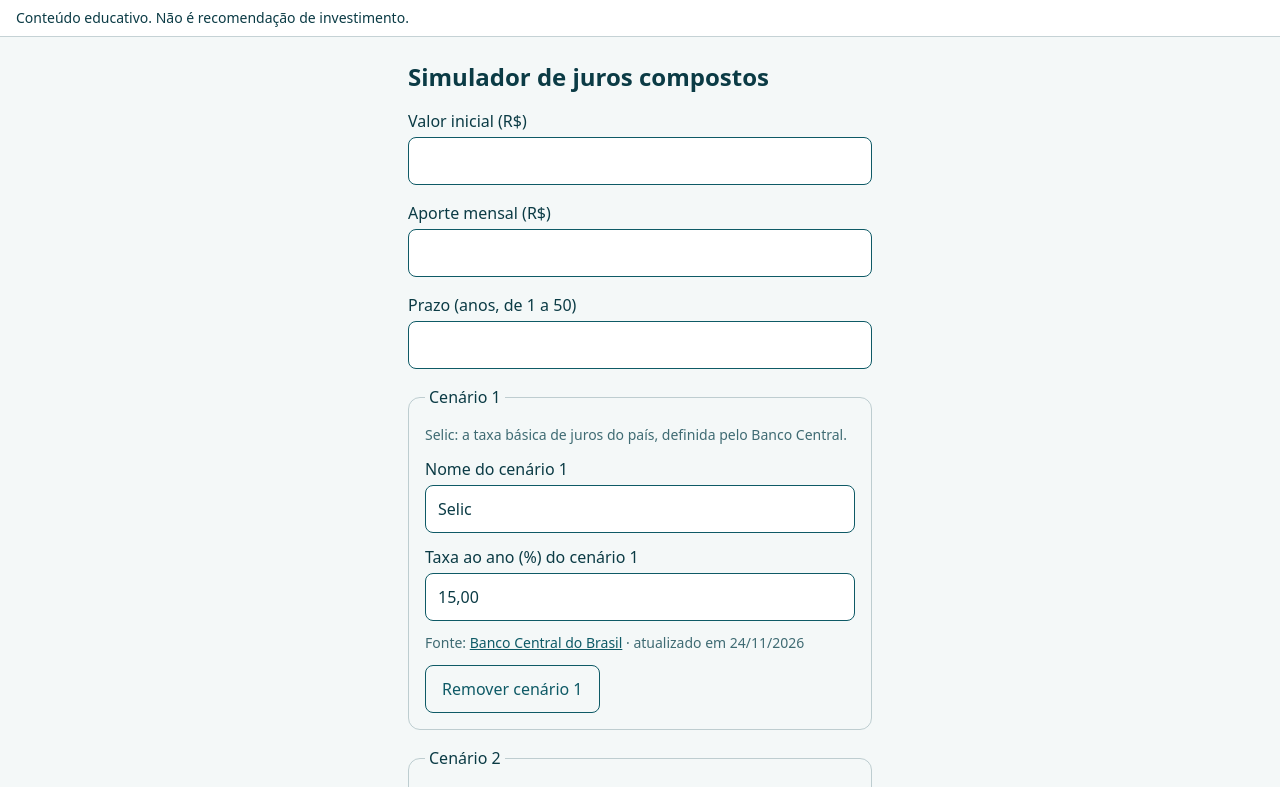
it: InvestmentSimulatorPage › formatsMillions
Expected: the field showing "15,00" is shown, [425,573,855,621]
Type "5.000" into the field labelled "Valor inicial (R$)".
click(640, 161); type("5.000")  # box [408,137,872,185]
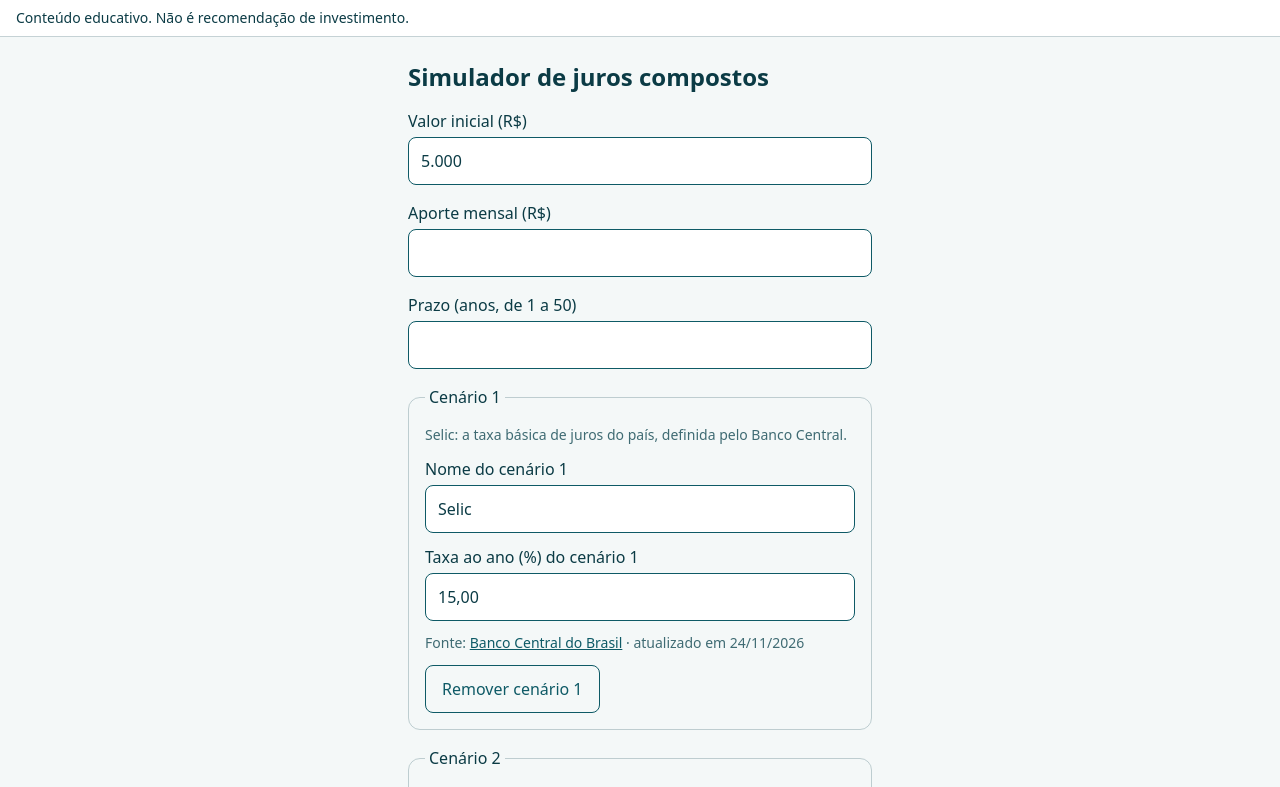
Type "200" into the field labelled "Aporte mensal (R$)".
click(640, 253); type("200")  # box [408,229,872,277]
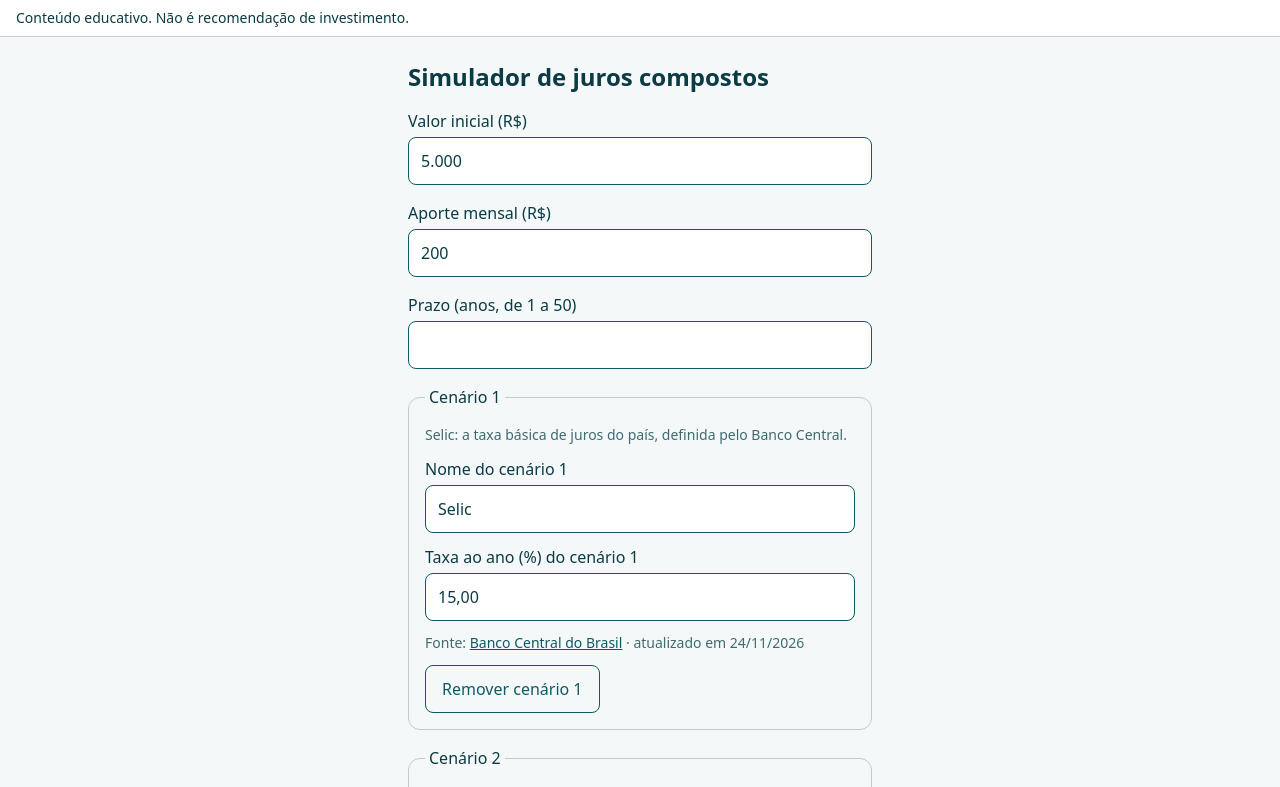
Type "10" into the field labelled "Prazo (anos, de 1 a 50)".
click(640, 345); type("10")  # box [408,321,872,369]
(page scrolled)
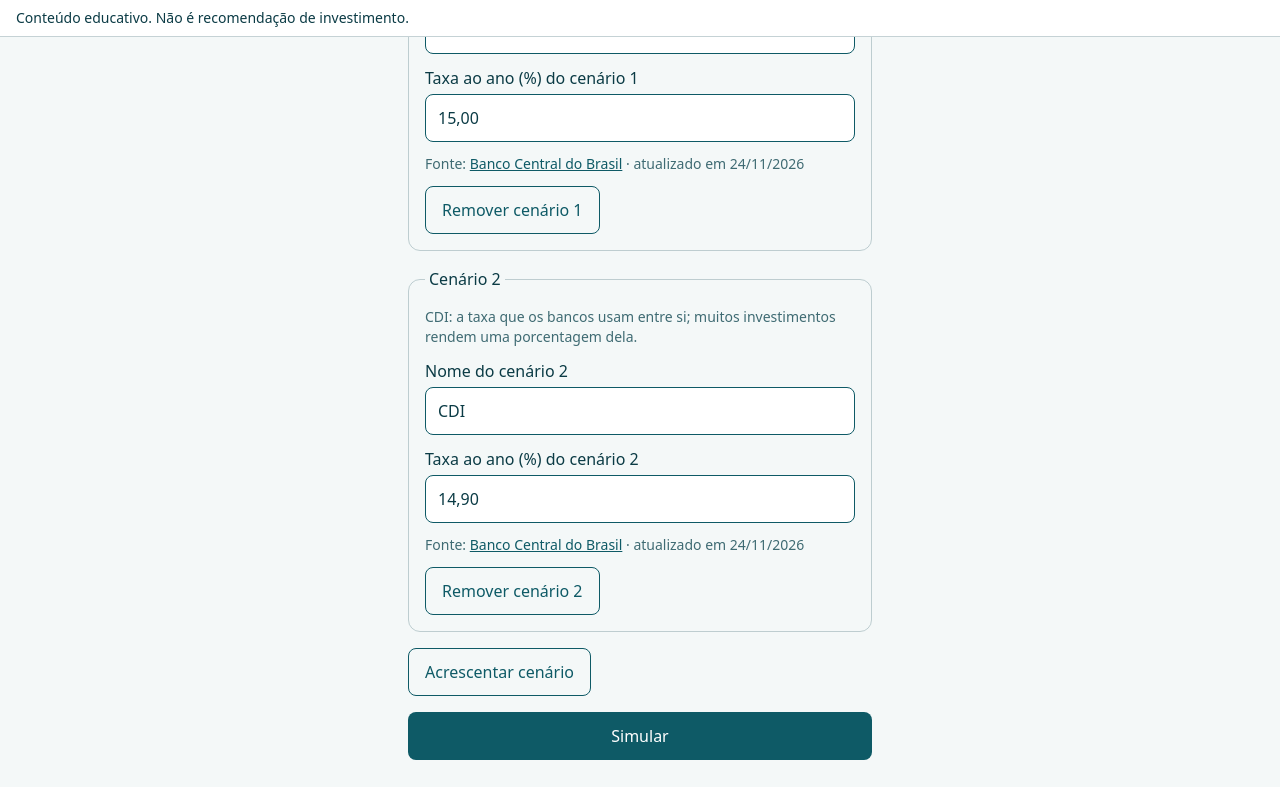
Click the button "Simular".
click(640, 736)  # box [408,712,872,760]
(page scrolled)
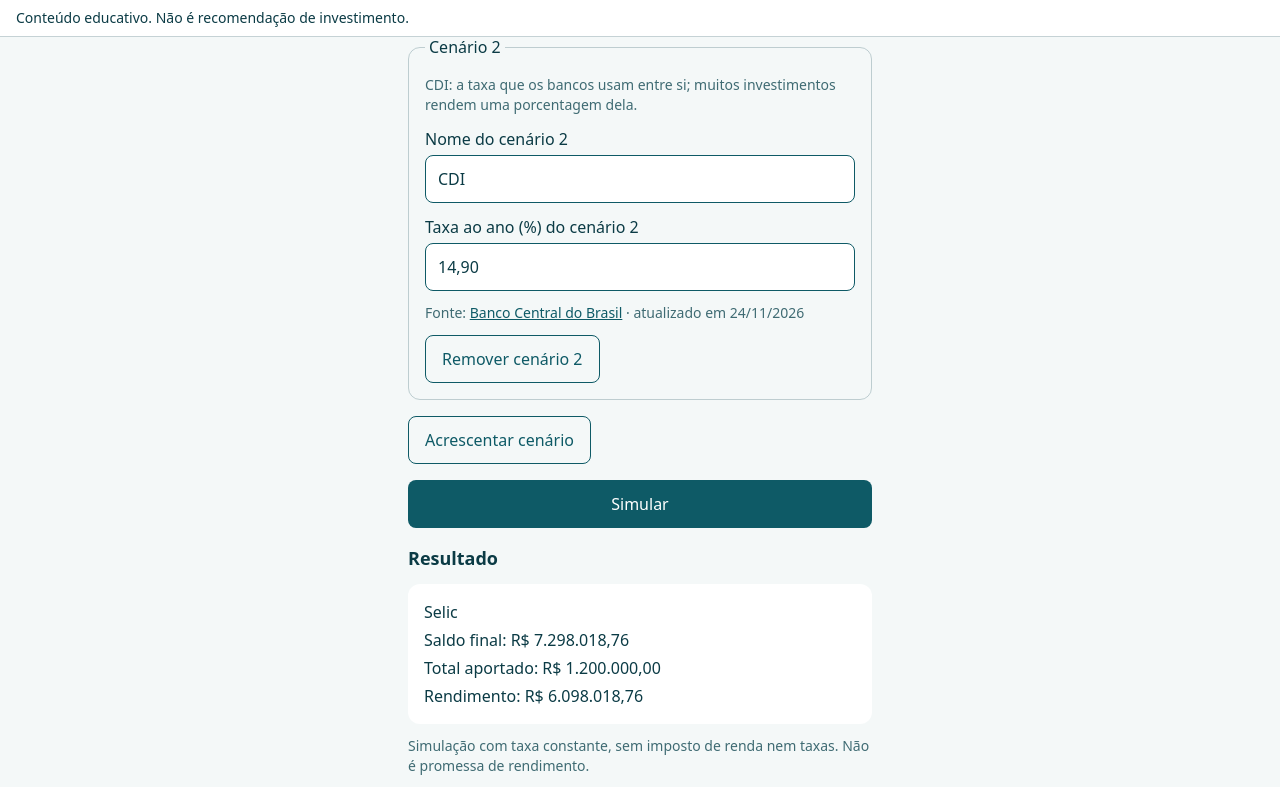
Now the text "Saldo final: R$ 7.298.018,76" is shown, box [424,629,629,651]
Now the text "Total aportado: R$ 1.200.000,00" is shown, box [424,657,661,679]
Now the text "Rendimento: R$ 6.098.018,76" is shown, box [424,685,643,707]
